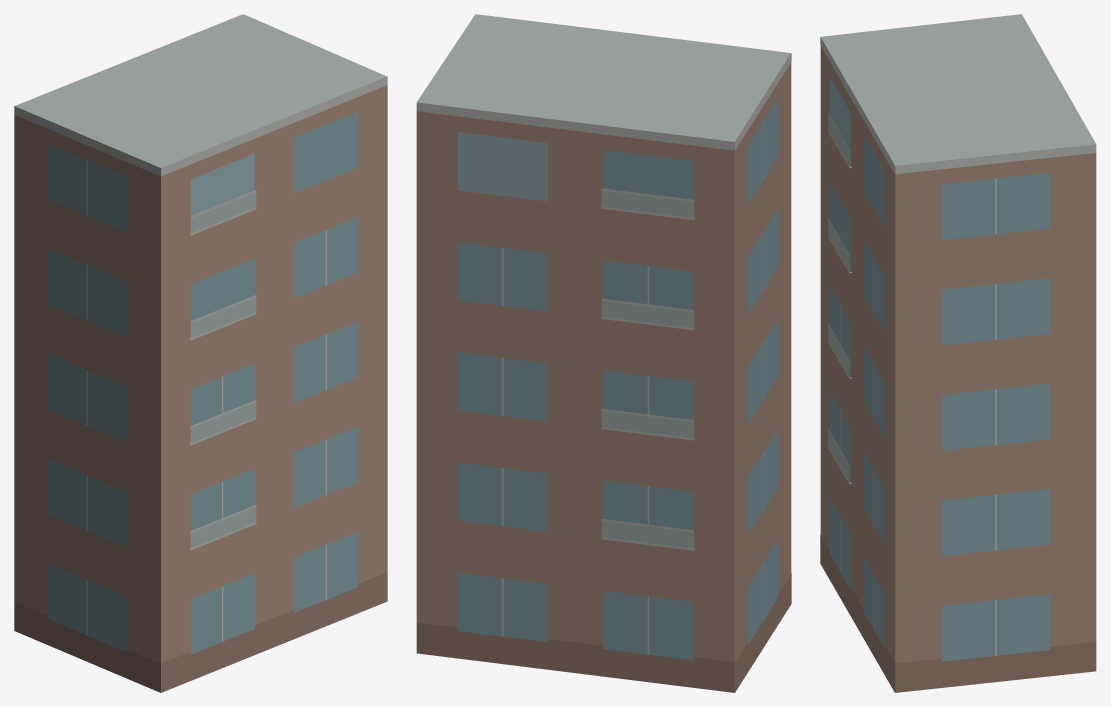
Rendered from survey-upis-32648701.glb.
3 renders of one model, left to right at view 1: azimuth 30°, elevation 25°; view 2: azimuth 150°, elevation 25°; view 3: azimuth 270°, elevation 25°, orthographic. The views are drawn at different scales.
Visible parts, largest first — view 1: survey-upis-32648701.tmp; view 2: survey-upis-32648701.tmp; view 3: survey-upis-32648701.tmp.
Boxes of the visible parts, x1=… form: survey-upis-32648701.tmp: x1=14, y1=14, x2=387, y2=692; survey-upis-32648701.tmp: x1=416, y1=14, x2=791, y2=692; survey-upis-32648701.tmp: x1=820, y1=14, x2=1096, y2=692.
Bounding box in the file's own units: 9.44 × 15.25 × 7.25.
